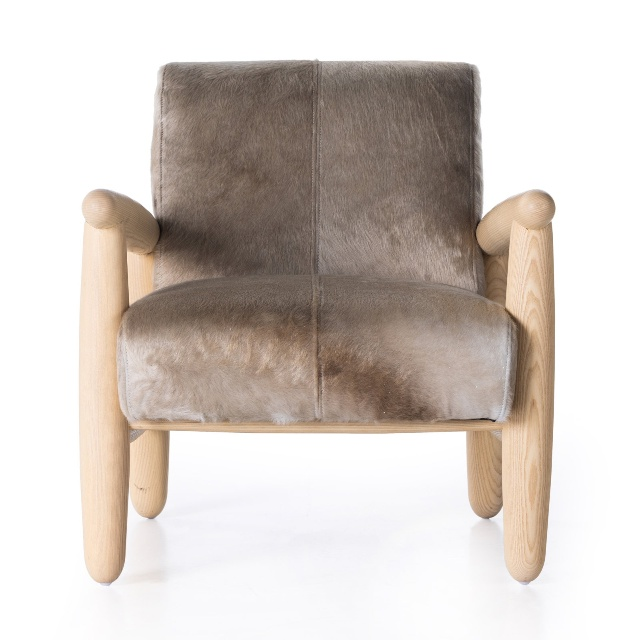obstacle: (80, 61, 554, 582)
